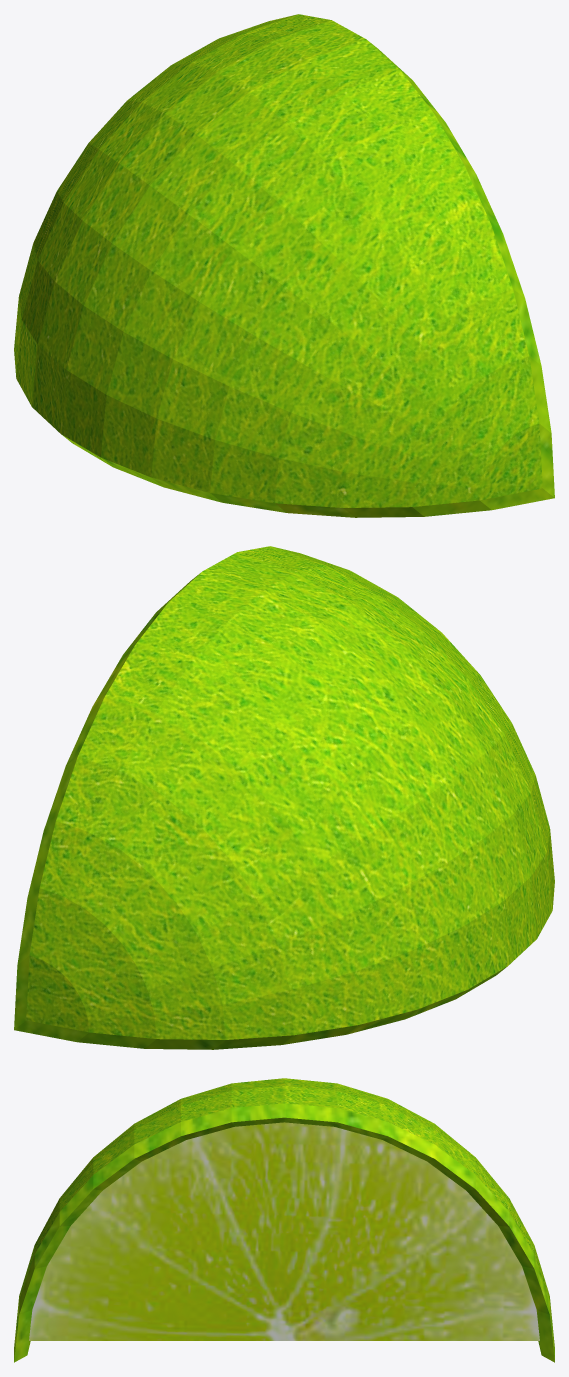
File: Lime001.fbx
3 renders of one model, top to bottom at view 1: azimuth 30°, elevation 25°; view 2: azimuth 150°, elevation 25°; view 3: azimuth 270°, elevation 25°, orthographic. The views are drawn at different scales.
Visible parts, largest first — view 1: Object; view 2: Object; view 3: Object.
Boxes of the visible parts, x1,y1,x2,y2 form: Object: (14, 14, 554, 517); Object: (14, 546, 554, 1049); Object: (14, 1078, 554, 1362).
Size of the model in its own units: 109 by 109 by 210.
